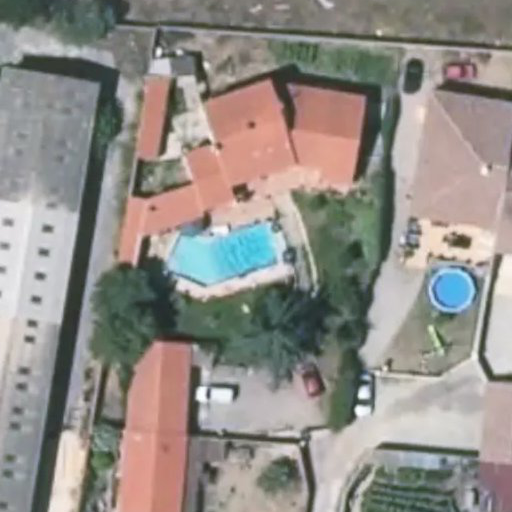pool: (213, 235, 298, 248)
